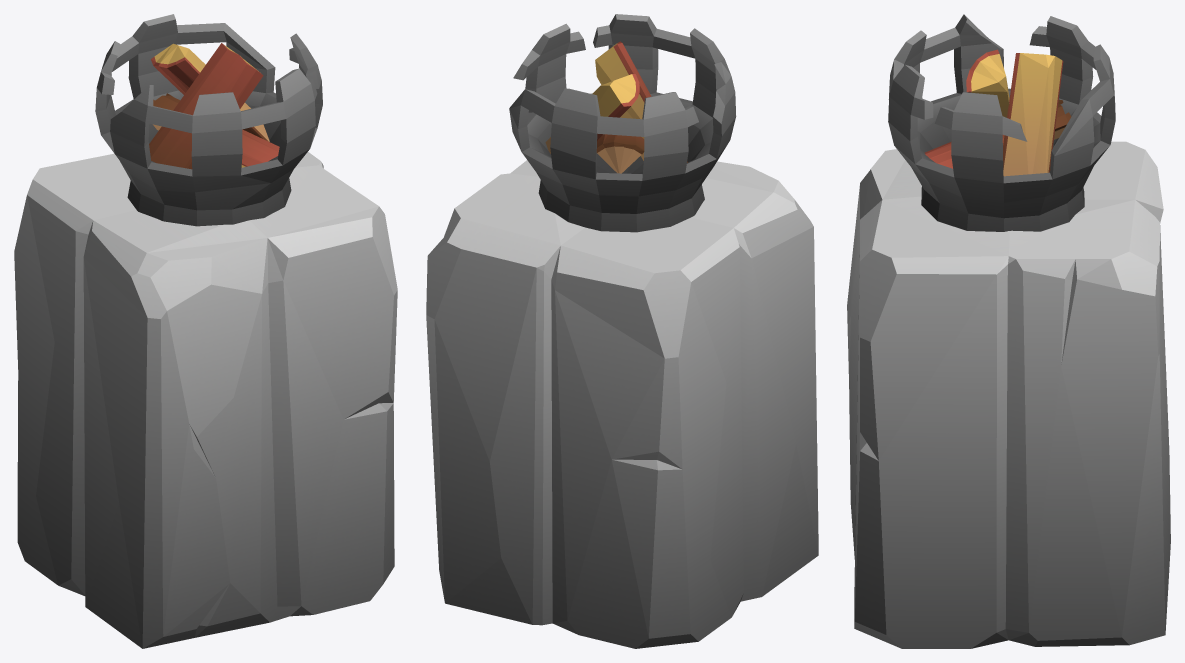
The model's file is RockBlock_Torch2.fbx.
3 renders of one model, left to right at view 1: azimuth 30°, elevation 25°; view 2: azimuth 150°, elevation 25°; view 3: azimuth 270°, elevation 25°, orthographic. The views are drawn at different scales.
Parts seen in each view (by area): view 1: RockBlock_Torch2; view 2: RockBlock_Torch2; view 3: RockBlock_Torch2.
Part boxes in pixels (bbox=[...]): RockBlock_Torch2: bbox=[14, 14, 397, 648]; RockBlock_Torch2: bbox=[426, 14, 818, 648]; RockBlock_Torch2: bbox=[847, 14, 1170, 648].
Bounding box in the file's own units: 0.8927 × 1.72 × 0.9368.
